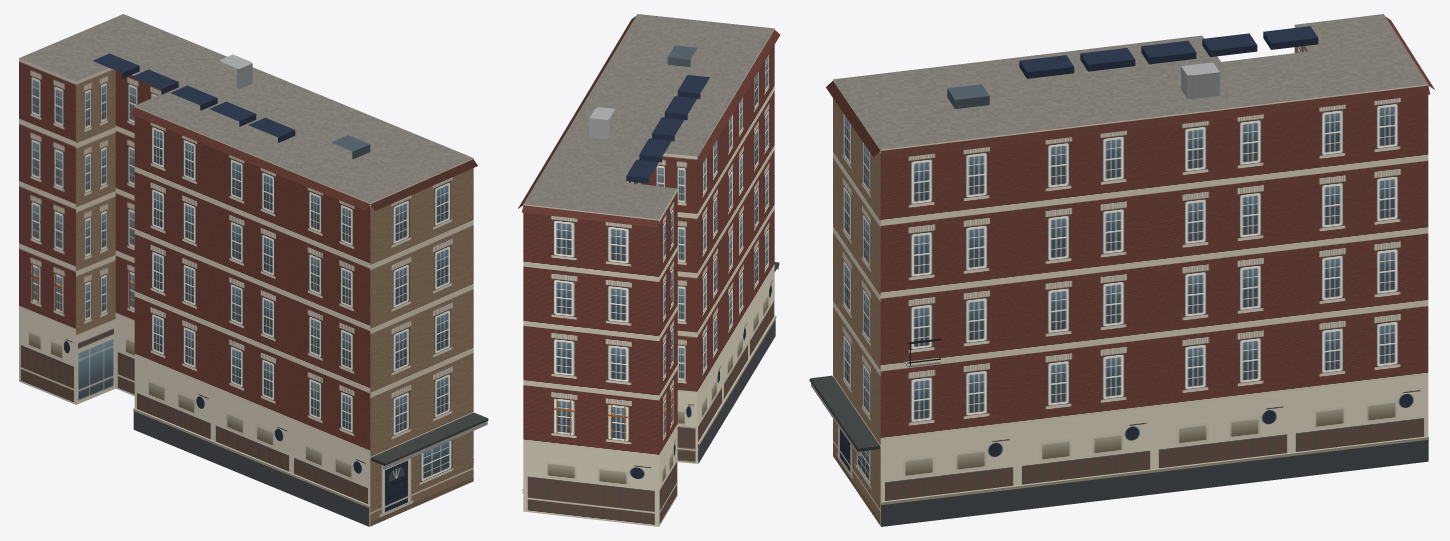
3 renders of one model, left to right at view 1: azimuth 30°, elevation 25°; view 2: azimuth 150°, elevation 25°; view 3: azimuth 270°, elevation 25°, orthographic. The views are drawn at different scales.
Visible parts, largest first — view 1: jan-evertsen-procedural-0363100012096187; view 2: jan-evertsen-procedural-0363100012096187; view 3: jan-evertsen-procedural-0363100012096187.
Part boxes in pixels (x1,y1,x2,y2): jan-evertsen-procedural-0363100012096187: (19,14,488,526); jan-evertsen-procedural-0363100012096187: (518,14,780,526); jan-evertsen-procedural-0363100012096187: (809,14,1434,526).
Size of the model in its own units: 11.46 by 15.33 by 21.74.
Materials: 46 (46 with a texture image).
